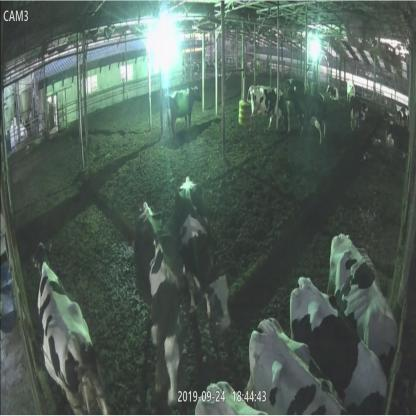cow: (30, 242, 106, 416), (290, 277, 388, 408), (249, 317, 346, 416), (134, 202, 180, 405), (328, 235, 398, 360), (177, 176, 231, 332), (195, 381, 267, 416), (284, 89, 326, 144), (247, 86, 289, 131), (166, 86, 202, 136), (386, 125, 410, 153), (350, 96, 368, 131), (326, 85, 342, 100), (397, 107, 410, 125), (348, 80, 356, 99)
